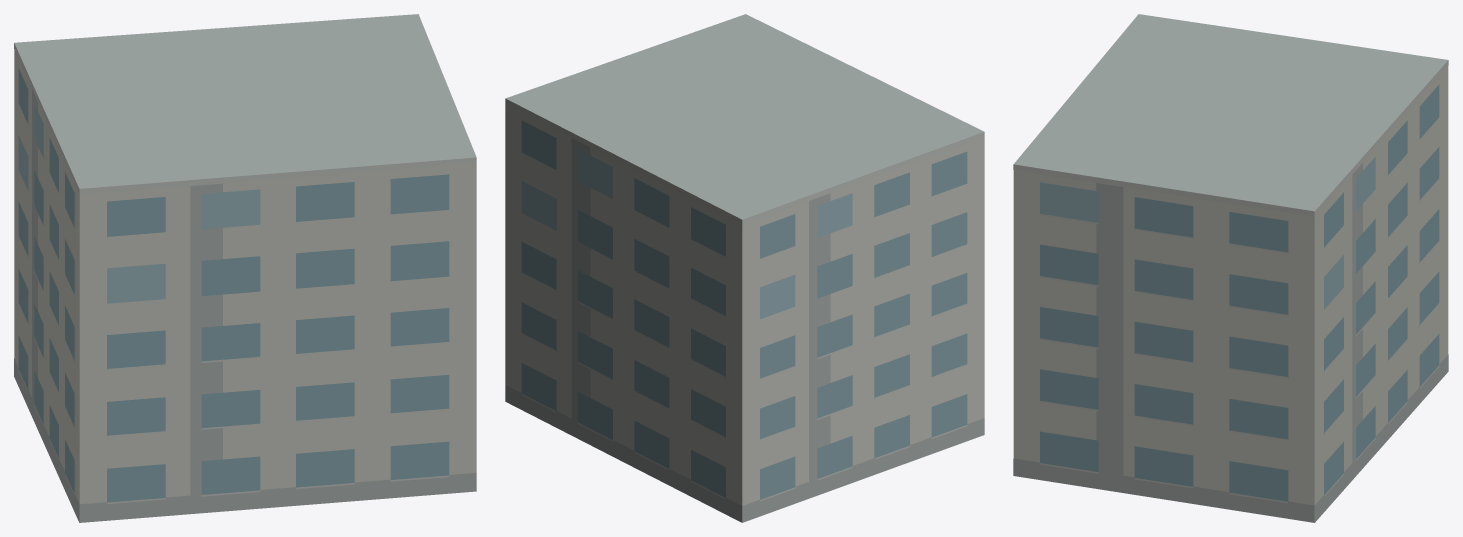
File: survey-upis-32890143.glb
3 views of the same model, side by side, from view 1: azimuth 30°, elevation 25°; view 2: azimuth 150°, elevation 25°; view 3: azimuth 270°, elevation 25° (orthographic). The views are drawn at different scales.
Parts seen in each view (by area): view 1: survey-upis-32890143.tmp; view 2: survey-upis-32890143.tmp; view 3: survey-upis-32890143.tmp.
Boxes of the visible parts, bbox=[...] form: survey-upis-32890143.tmp: bbox=[14, 14, 476, 522]; survey-upis-32890143.tmp: bbox=[505, 14, 984, 522]; survey-upis-32890143.tmp: bbox=[1013, 14, 1448, 522].
Size of the model in its own units: 18.21 by 13.4 by 16.97.
